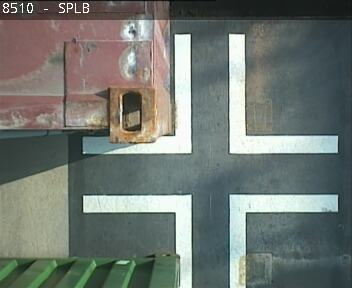groundmarker_1: (82, 34, 338, 156), (82, 194, 339, 288)
